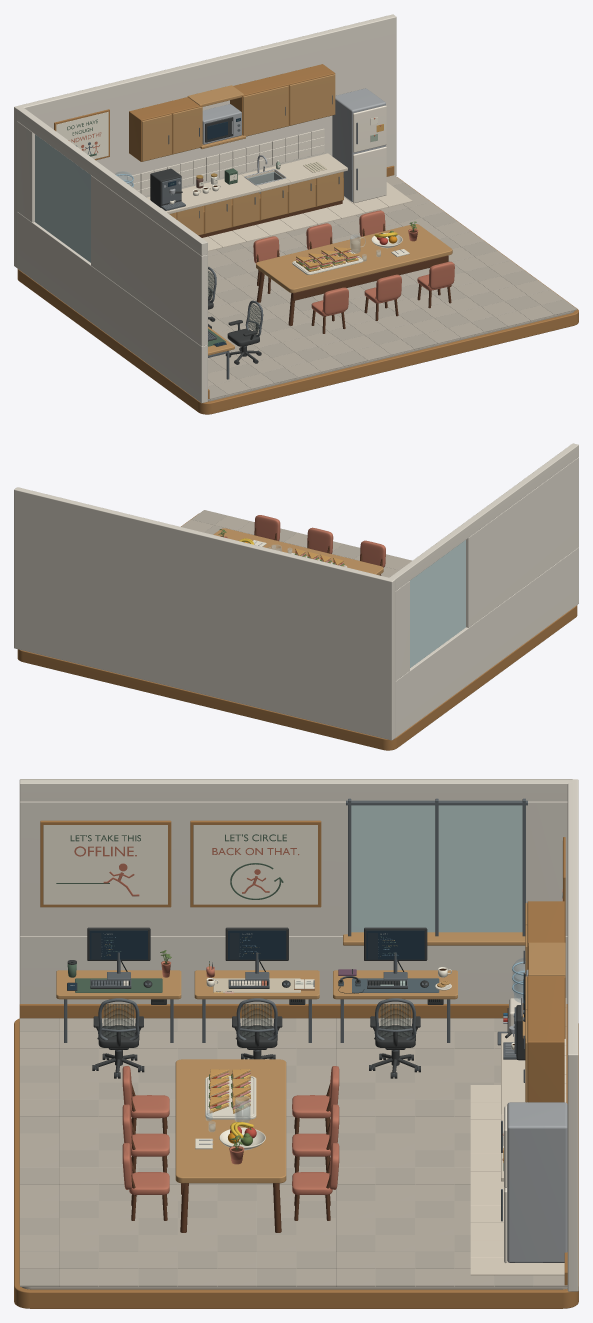
File: sams-corporate-office.glb
The picture shows the model from 3 angles, top to bottom: view 1: azimuth 30°, elevation 25°; view 2: azimuth 150°, elevation 25°; view 3: azimuth 270°, elevation 25°; orthographic projection. The views are drawn at different scales.
Visible parts, largest first — view 1: Sam's corporate-office; view 2: Sam's corporate-office; view 3: Sam's corporate-office.
Boxes of the visible parts, <box> form: Sam's corporate-office: <box>14,14,578,414</box>; Sam's corporate-office: <box>14,443,578,750</box>; Sam's corporate-office: <box>14,779,578,1308</box>.
Bounding box in the file's own units: 8.96 × 3.86 × 7.76.
